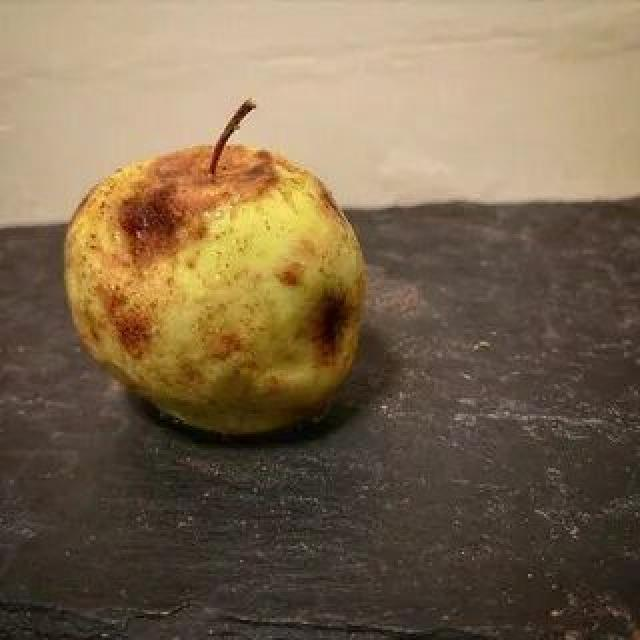Banana: (60, 142, 373, 433)
